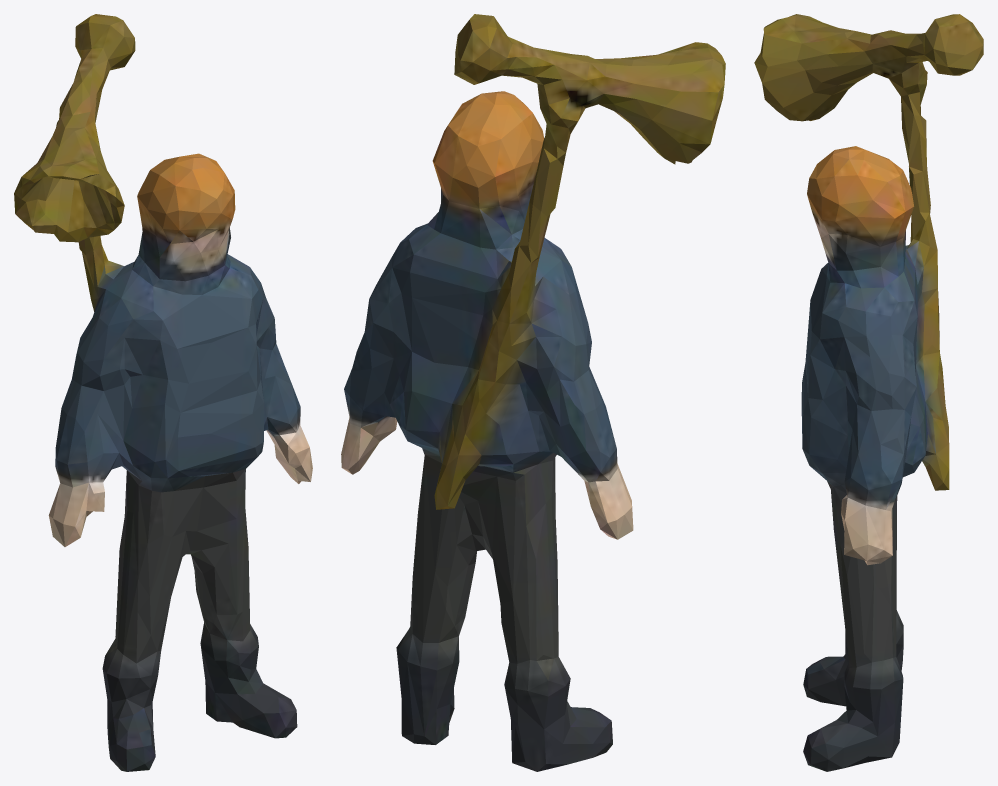
Rendered from habitant-loin.glb.
3 views of the same model, side by side, from view 1: azimuth 30°, elevation 25°; view 2: azimuth 150°, elevation 25°; view 3: azimuth 270°, elevation 25° (orthographic). The views are drawn at different scales.
Parts seen in each view (by area): view 1: habitant; view 2: habitant; view 3: habitant.
Part boxes in pixels (x1,y1,x2,y2): habitant: (14, 14, 312, 771); habitant: (341, 14, 725, 771); habitant: (754, 14, 983, 771).
Size of the model in its own units: 0.4702 by 1.01 by 0.3009.
Materials: 1 (1 with a texture image).
